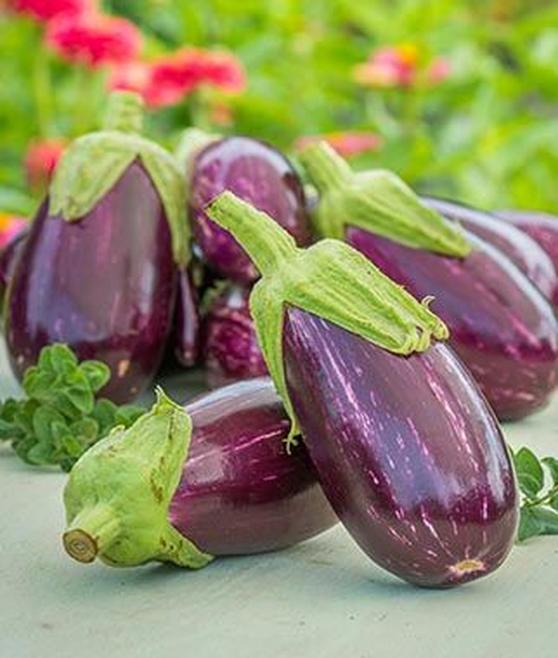eggplant: (206, 192, 521, 589)
